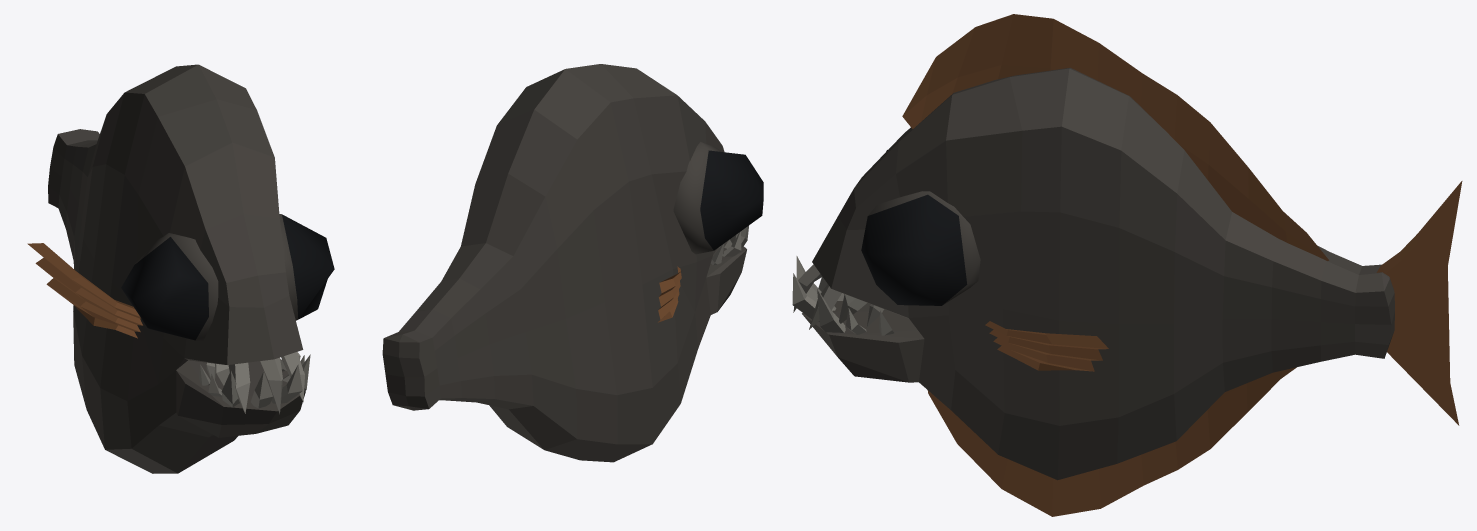
The model's file is cc0-turbot-lod1.glb.
3 renders of one model, left to right at view 1: azimuth 30°, elevation 25°; view 2: azimuth 150°, elevation 25°; view 3: azimuth 270°, elevation 25°, orthographic. The views are drawn at different scales.
Parts seen in each view (by area): view 1: part_0; view 2: part_0; view 3: part_0.
Boxes of the visible parts, <box> form: part_0: <box>27,64,334,473</box>; part_0: <box>382,64,763,462</box>; part_0: <box>792,14,1462,516</box>.
Bounding box in the file's own units: 2.06 × 3.92 × 4.58.
